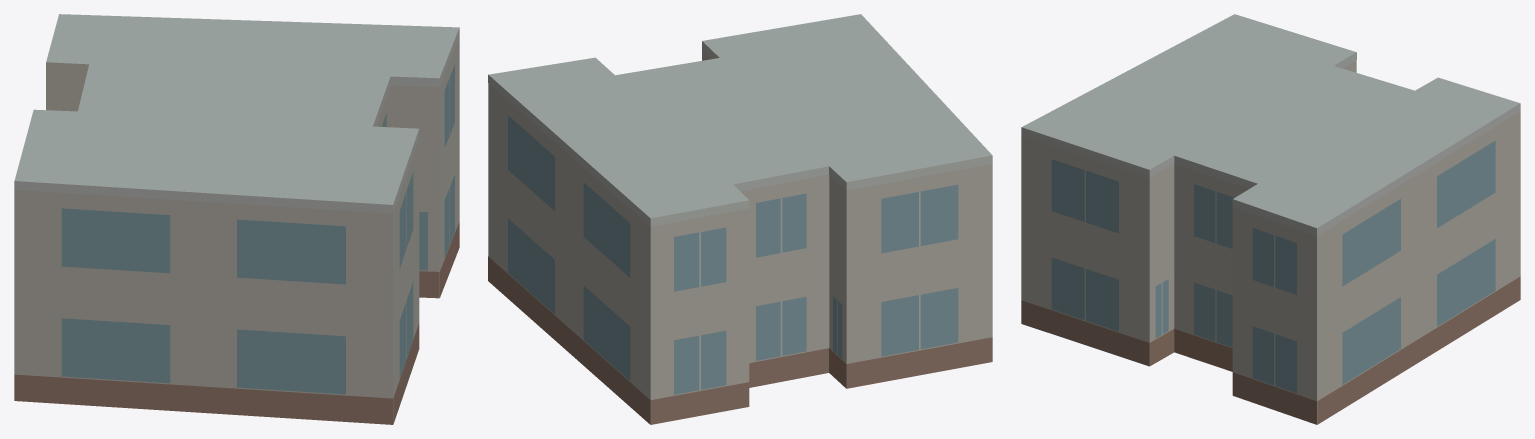
File: survey-upis-32486893.glb
3 renders of one model, left to right at view 1: azimuth 30°, elevation 25°; view 2: azimuth 150°, elevation 25°; view 3: azimuth 270°, elevation 25°, orthographic. The views are drawn at different scales.
Visible parts, largest first — view 1: survey-upis-32486893.tmp; view 2: survey-upis-32486893.tmp; view 3: survey-upis-32486893.tmp.
Boxes of the visible parts, left/top/right/bottom form: survey-upis-32486893.tmp: left=14, top=14, right=459, bottom=424; survey-upis-32486893.tmp: left=488, top=14, right=992, bottom=424; survey-upis-32486893.tmp: left=1021, top=14, right=1520, bottom=424.
Bounding box in the file's own units: 14.27 × 6.1 × 14.04.
